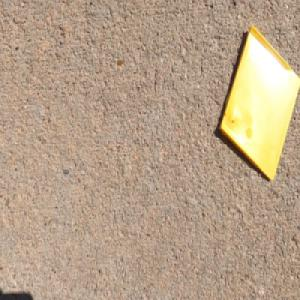PlasticPart: (217, 24, 299, 185)
